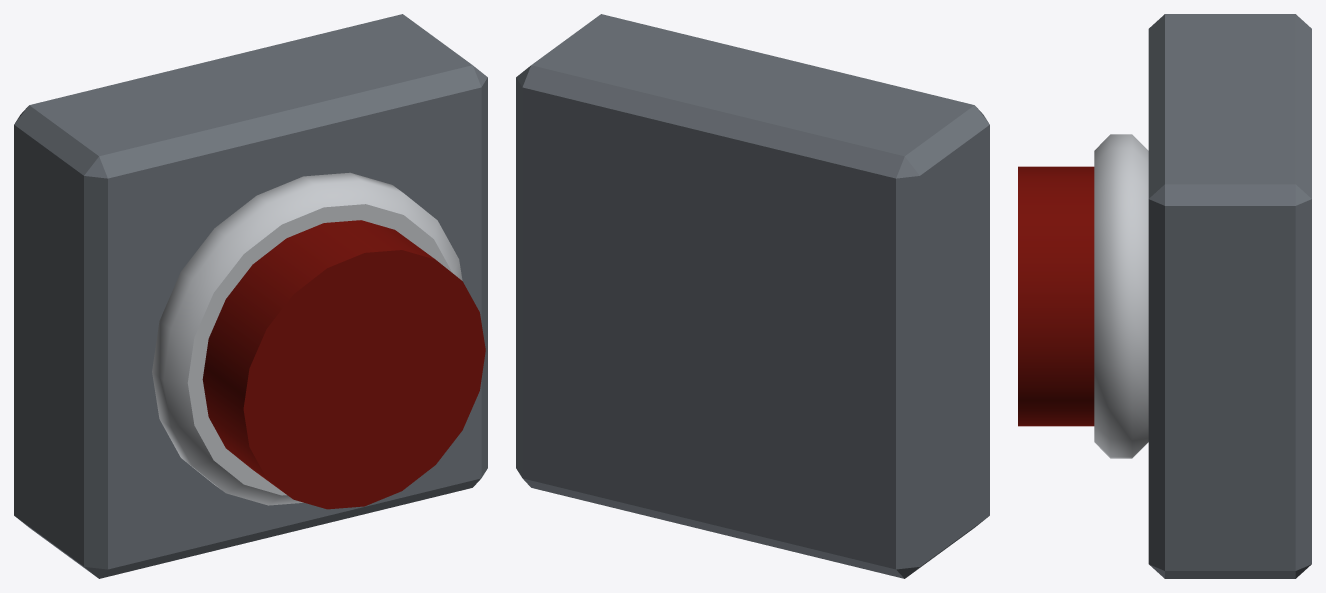
Rendered from push_button_red.glb.
3 views of the same model, side by side, from view 1: azimuth 30°, elevation 25°; view 2: azimuth 150°, elevation 25°; view 3: azimuth 270°, elevation 25° (orthographic). The views are drawn at different scales.
Parts seen in each view (by area): view 1: Button_Static, Button; view 2: Button_Static; view 3: Button_Static, Button.
Part boxes in pixels (<box>): Button_Static: <box>14,14,487,578</box>; Button: <box>202,220,485,509</box>; Button_Static: <box>516,14,989,578</box>; Button_Static: <box>1094,14,1311,578</box>; Button: <box>1018,166,1094,426</box>.
Bounding box in the file's own units: 0.08 × 0.08 × 0.054.
